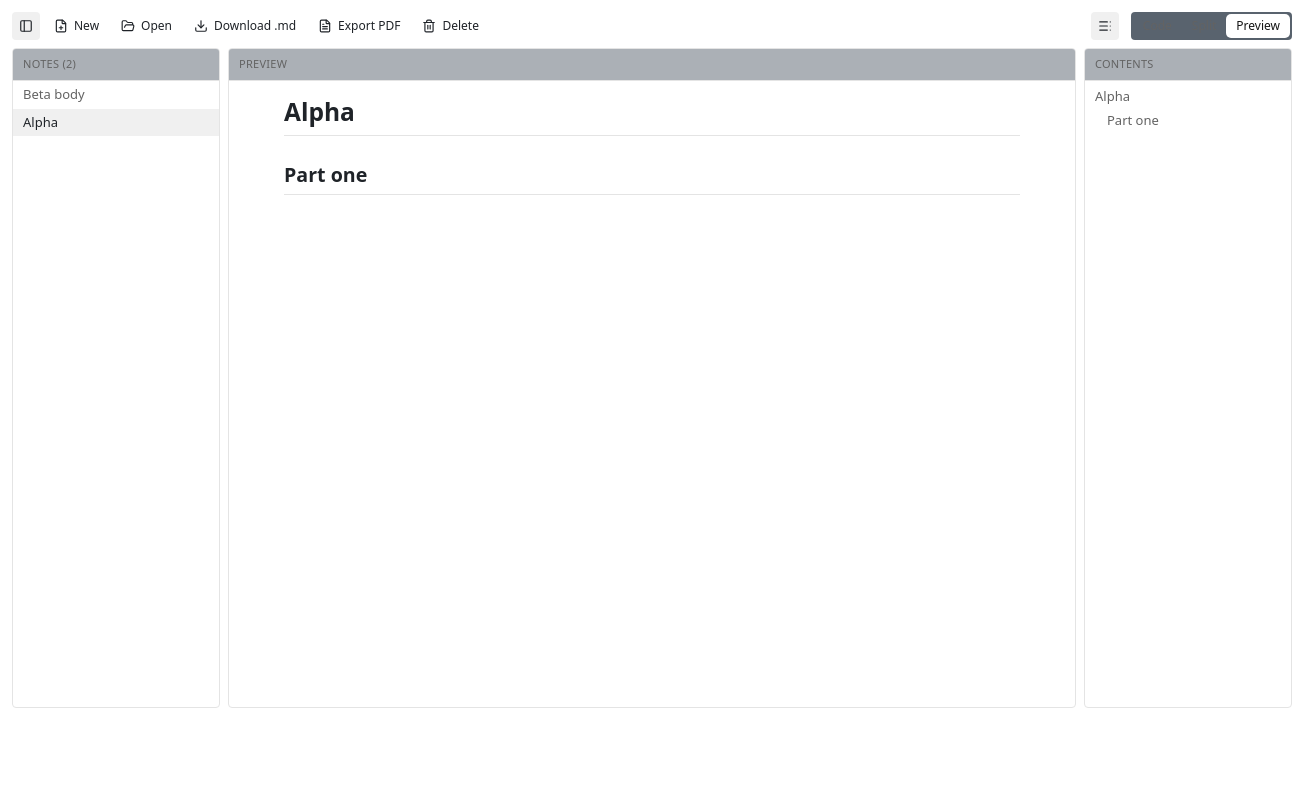
Test: MarkdownNotes › lists notes newest first and previews the active one with a toc
The width and height of the screenshot is (1304, 812).
Expected: the heading "Part one" is shown, left=284, top=163, right=1020, bottom=195
Expected: the button "Part one" is shown, left=1085, top=108, right=1291, bottom=132
What coordinates should you click on to do the following:
click the button "Beta body"
I would click on:
 (116, 95)
Its box is left=13, top=81, right=219, bottom=108.
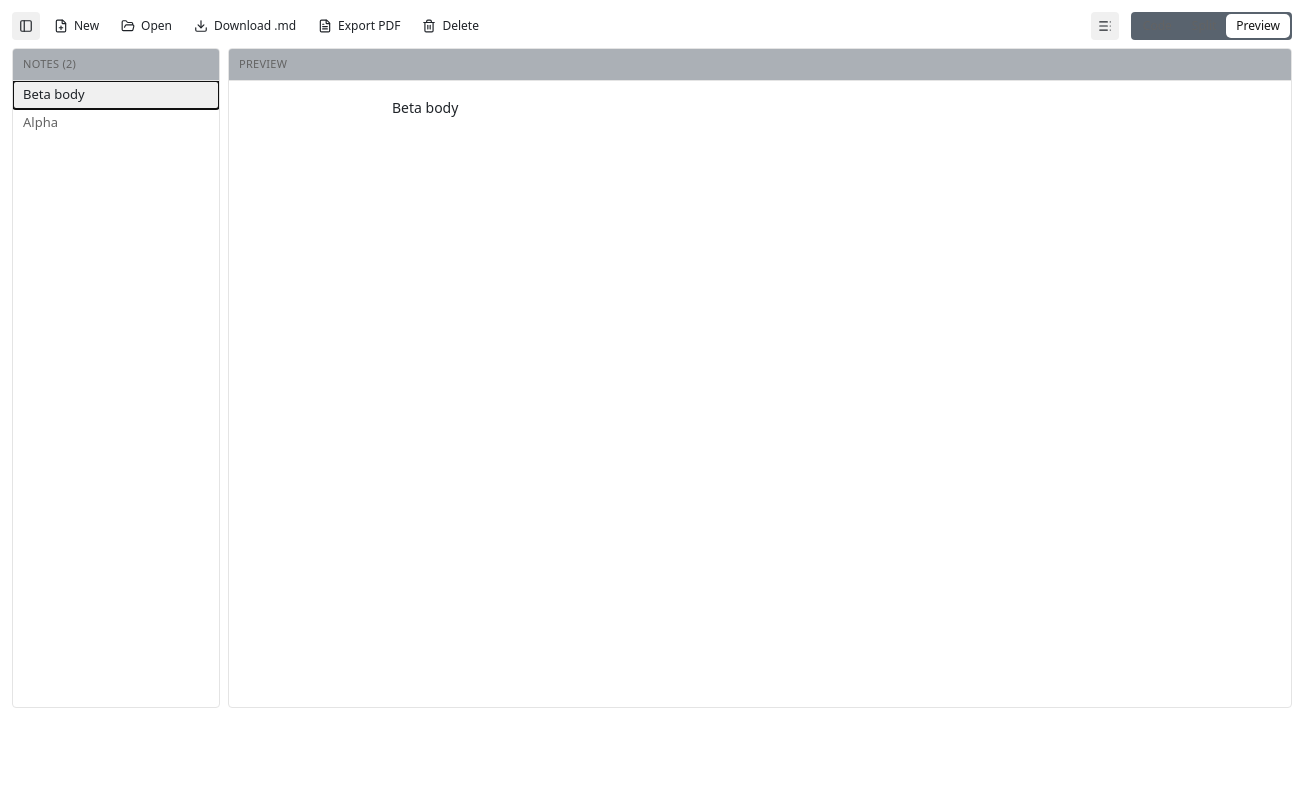
Now the element with test id "preview" reads "Beta body", box left=392, top=98, right=458, bottom=117
